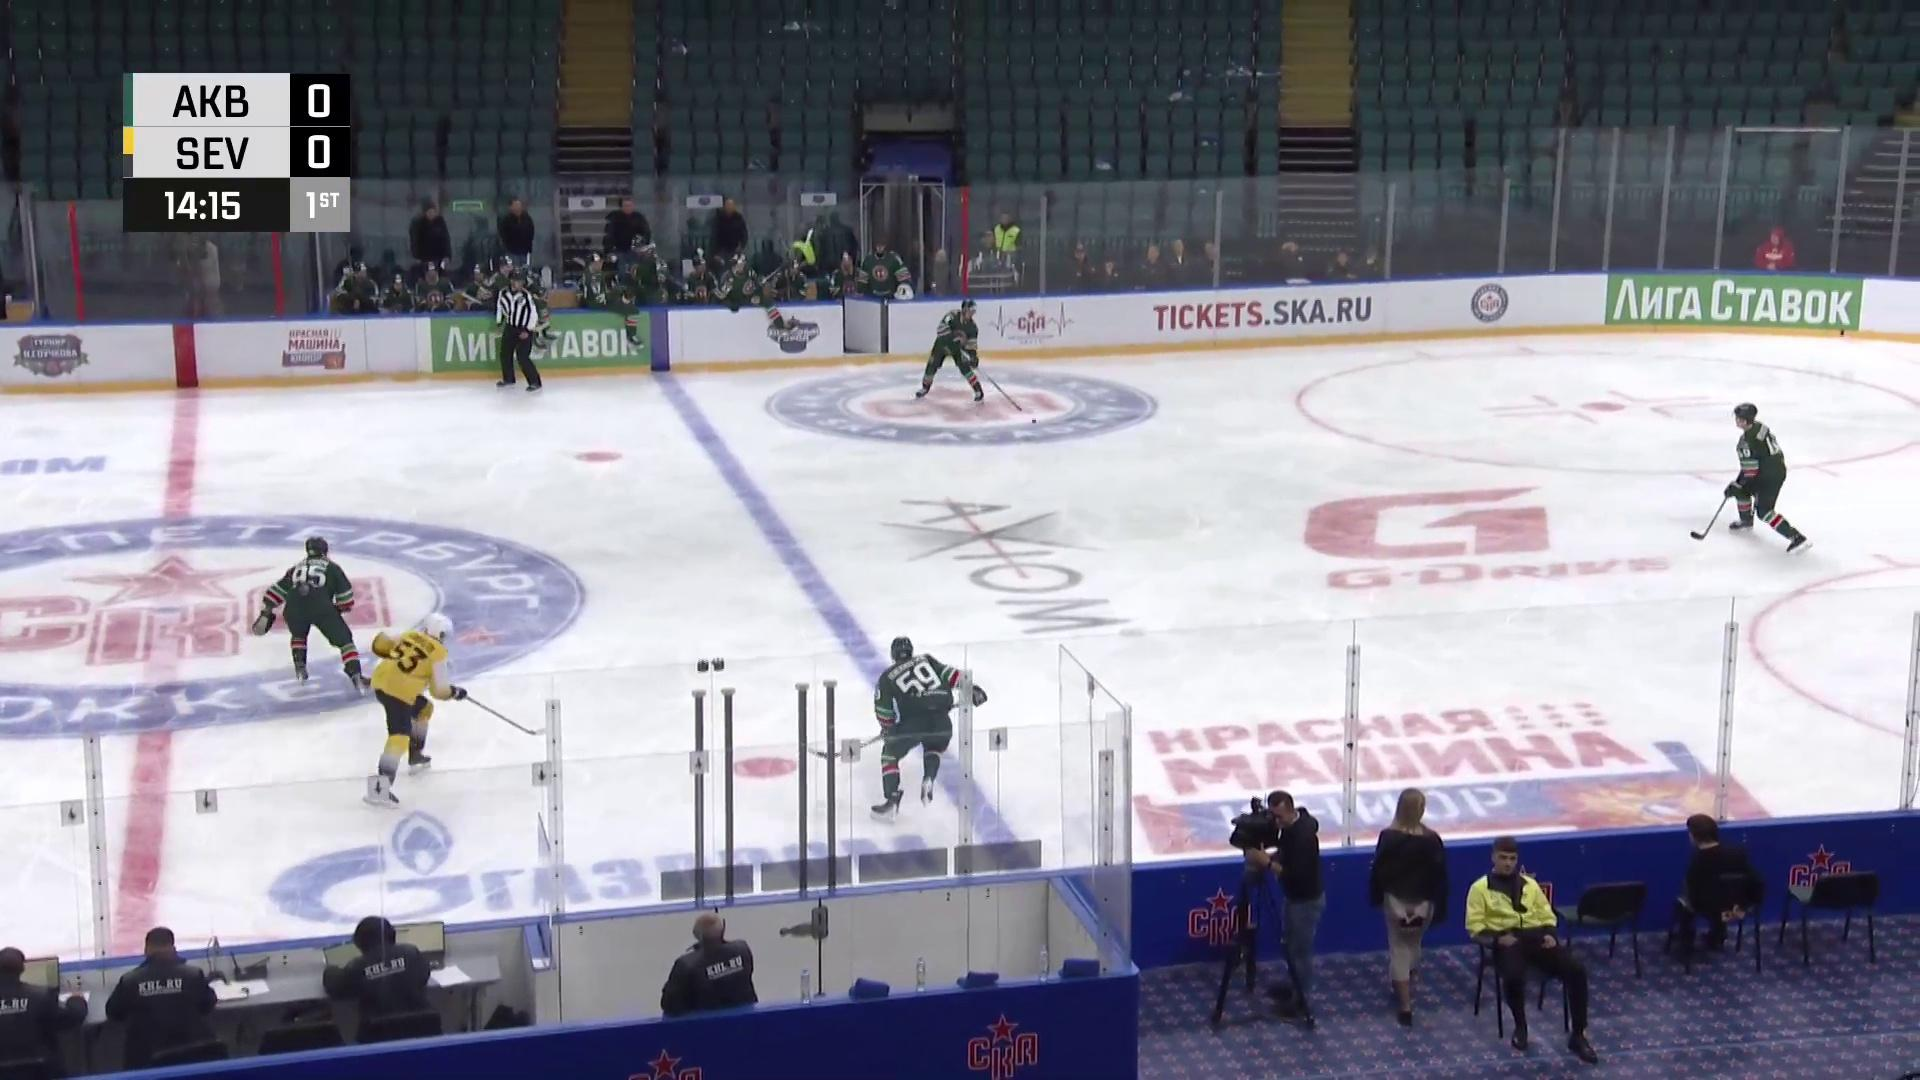ball: (1031, 417, 1038, 425)
